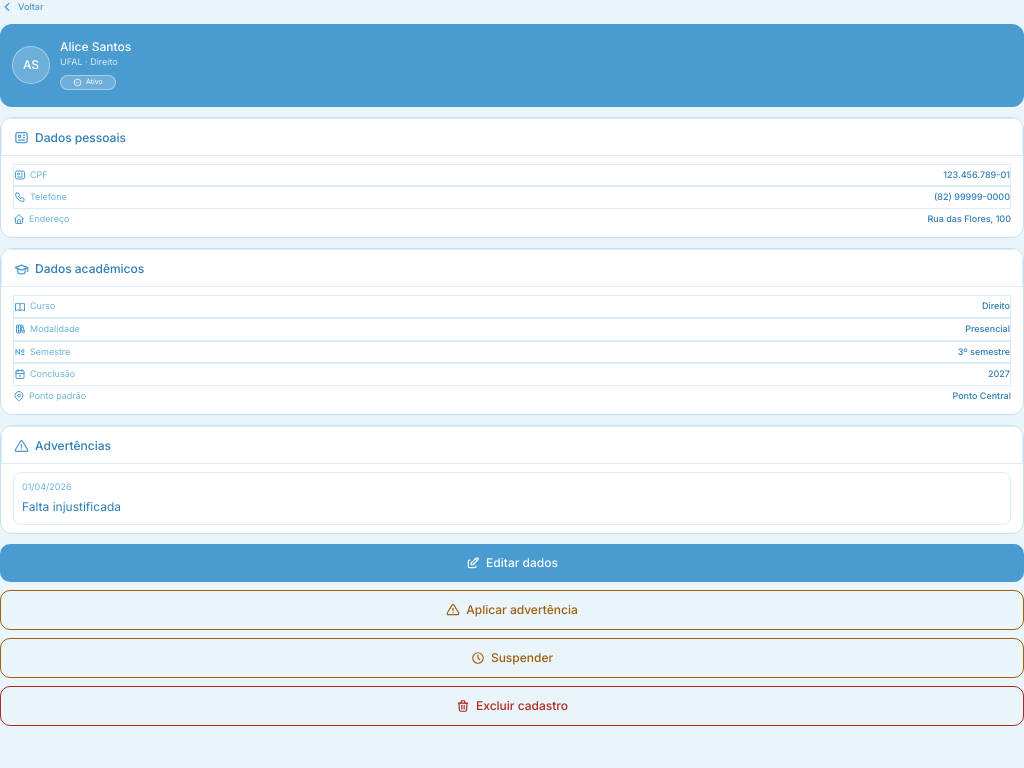
Test: DetalheAlunoPage — excluir aluno › clicar em Excluir abre modal de confirmação
Click the button "Excluir cadastro" at (512, 706), box [0,686,1023,726]
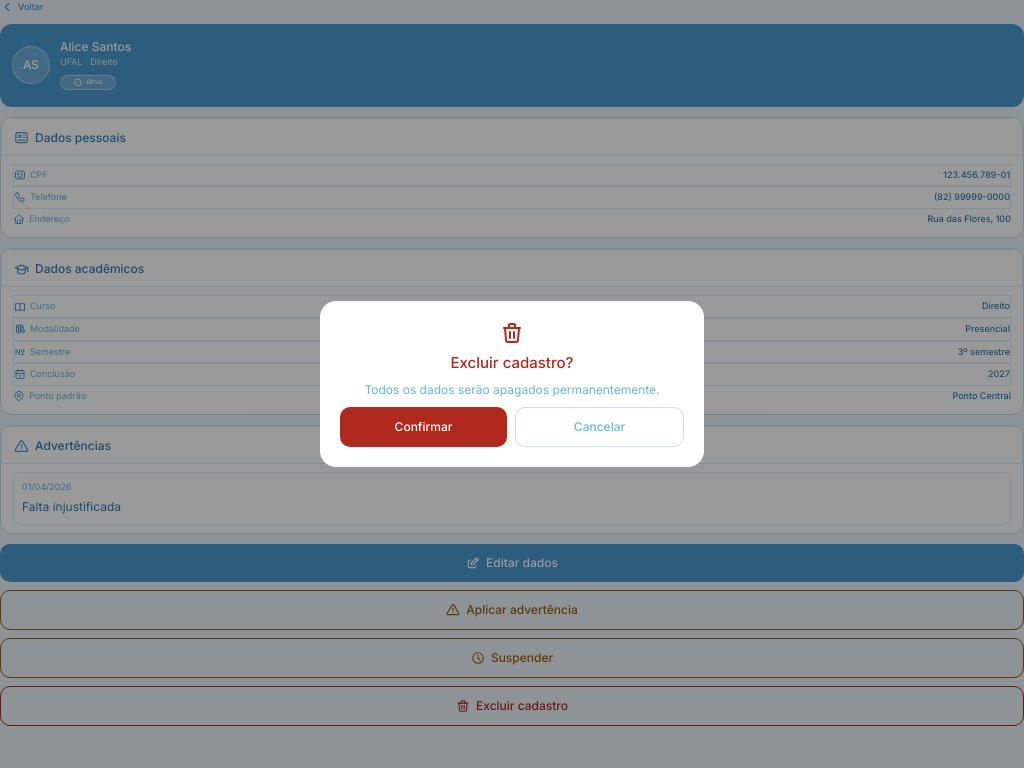
Result: the dialog is shown at [320,301,704,467]
Result: the text "Todos os dados serão apagados permanentemente." is shown at [364,381,660,399]
